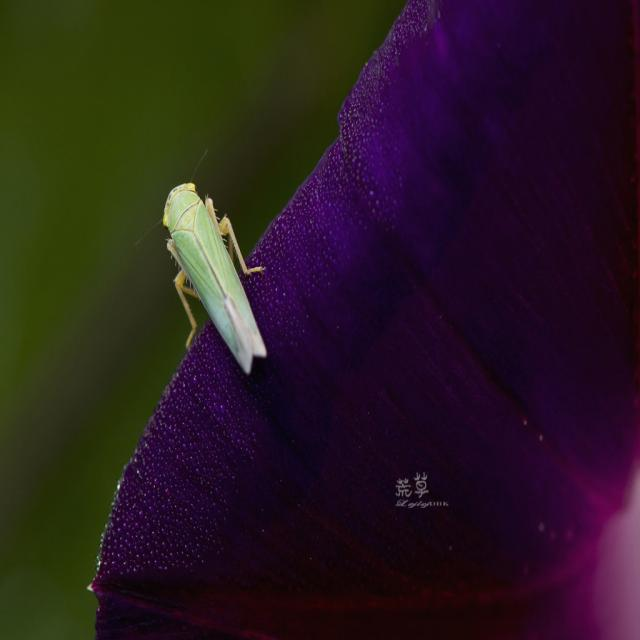Yechan: (154, 168, 271, 383)
